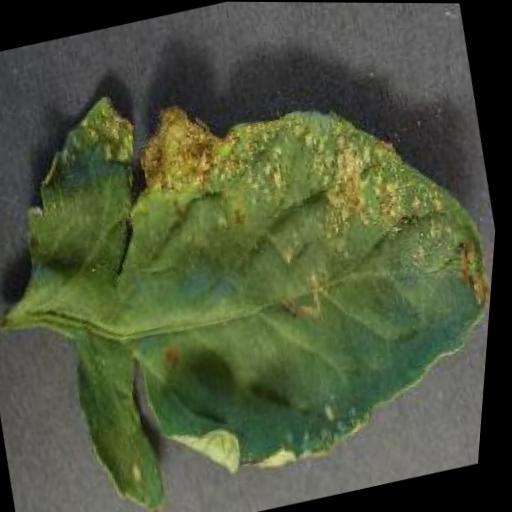Bacterial Spot: (0, 8, 512, 512)
